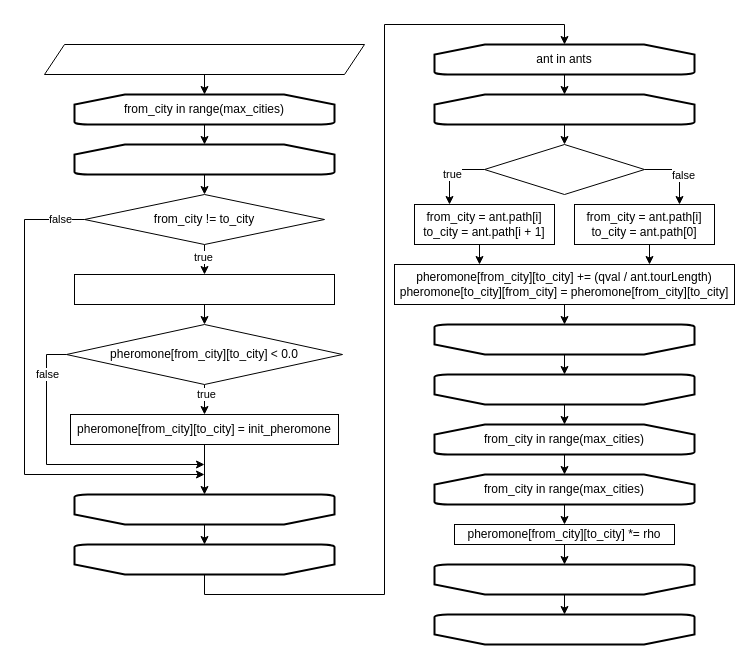
Some shapes in this 752 by 663 pixel diagram are drawn without their labels. Here are the shapes that lost their labels. From the top down, the centre of each, then its label:
At point (204, 59): "ants, pheromone, distance, rho, qval, max_cities".
At point (564, 109): "for i in range(max_cities)".
At point (204, 159): "to_city in range(max_cities)".
At point (564, 169): "i < max_cities - 1".
At point (204, 289): "pheromone[from_city][to_city] *= (1.0 - rho)".
